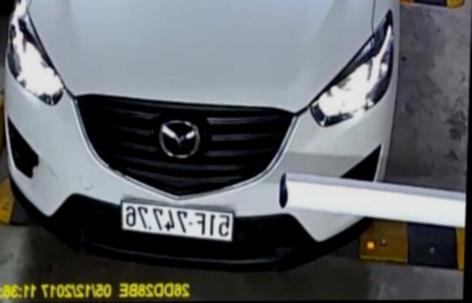License_Plate: (118, 195, 235, 243)
